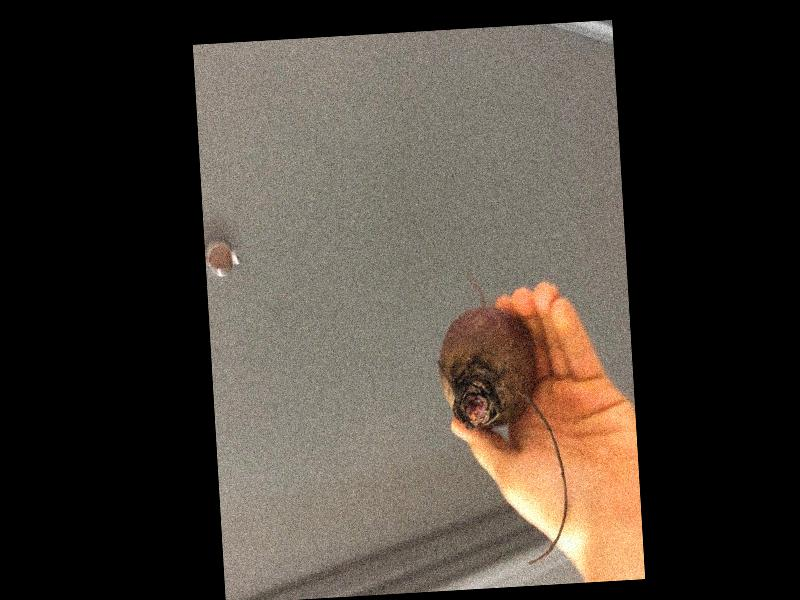Beet: (434, 272, 572, 568)
